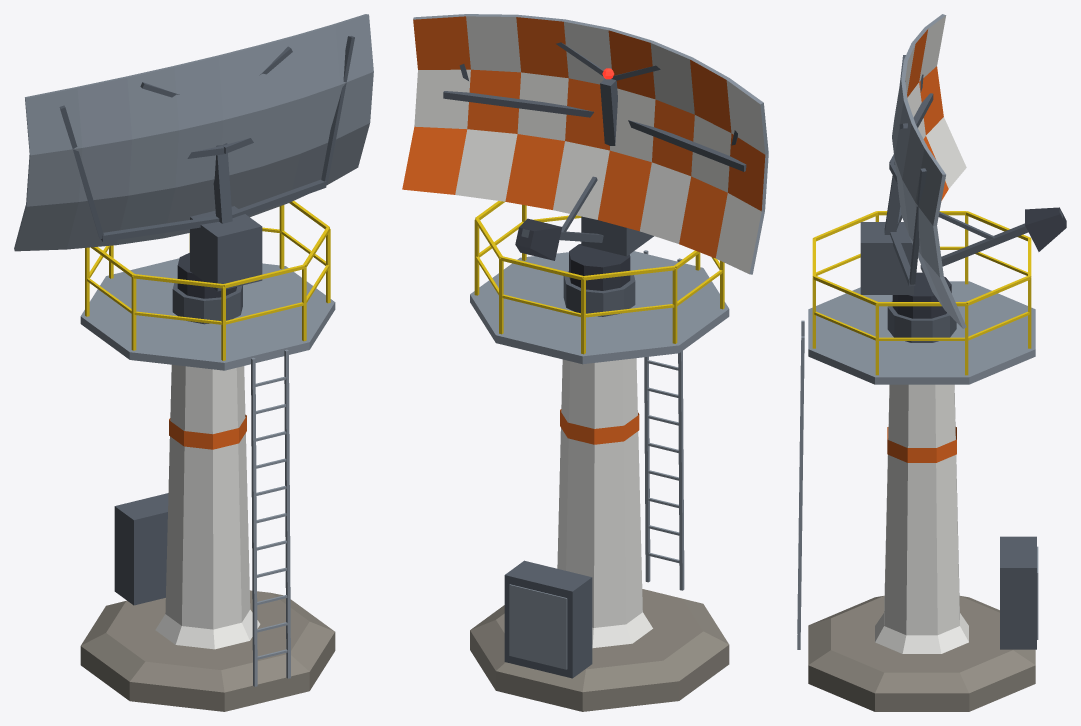
The model's file is radar_dish.glb.
3 renders of one model, left to right at view 1: azimuth 30°, elevation 25°; view 2: azimuth 150°, elevation 25°; view 3: azimuth 270°, elevation 25°, orthographic. The views are drawn at different scales.
Visible parts, largest first — view 1: Tower, Dish; view 2: Dish, Tower; view 3: Tower, Dish.
Boxes of the visible parts, x1,y1,x2,y2 form: Tower: (80, 201, 335, 711); Dish: (14, 14, 373, 298); Dish: (402, 14, 768, 290); Tower: (470, 201, 729, 711); Tower: (797, 211, 1038, 711); Dish: (860, 14, 1066, 328).
Bounding box in the file's own units: 4.64 × 7.86 × 3.28.
